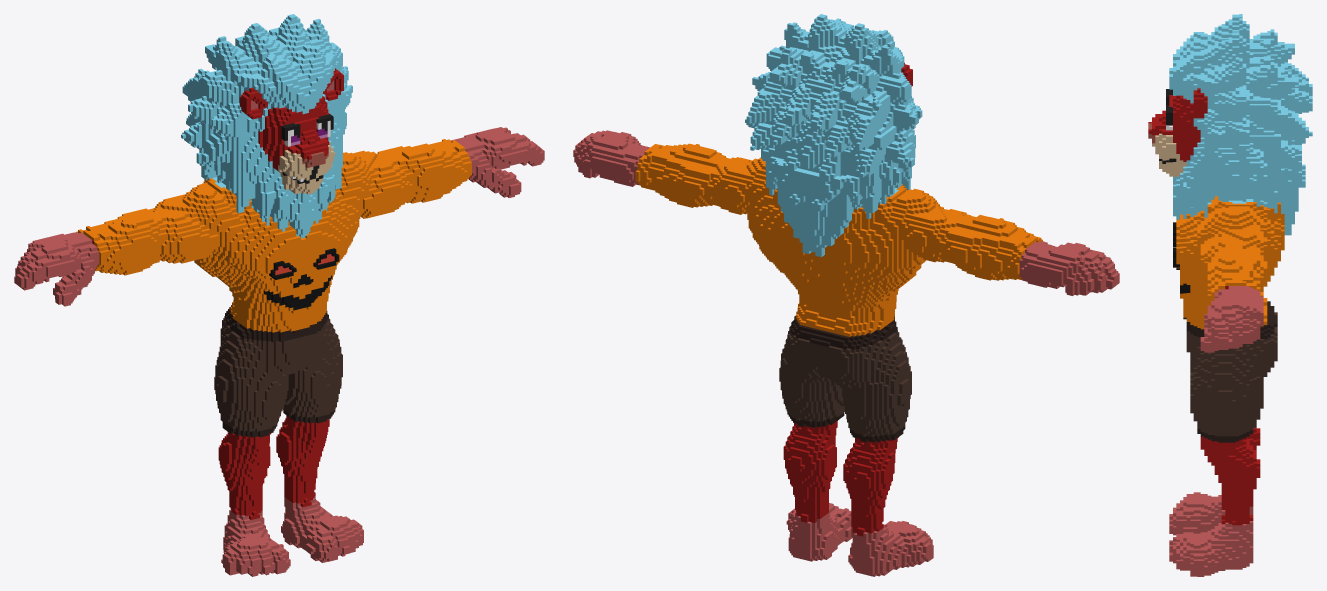
File: 323-2pvKNST6.glb
3 views of the same model, side by side, from view 1: azimuth 30°, elevation 25°; view 2: azimuth 150°, elevation 25°; view 3: azimuth 270°, elevation 25° (orthographic). The views are drawn at different scales.
Visible parts, largest first — view 1: smirk; view 2: smirk; view 3: smirk.
Part boxes in pixels (x1,y1,x2,y2): smirk: [14, 14, 544, 576]; smirk: [573, 14, 1119, 576]; smirk: [1148, 14, 1312, 576].
Bounding box in the file's own units: 17.2 × 16.5 × 4.7.
Materials: 5 (5 with a texture image).
